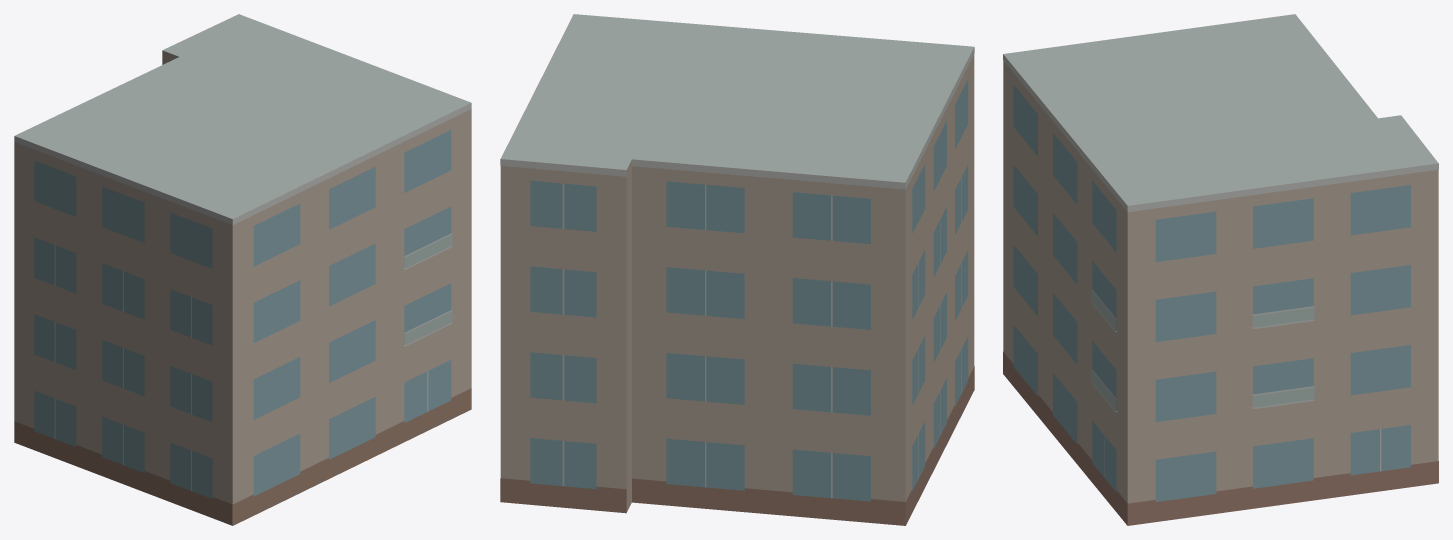
File: survey-upis-32534031.glb
3 views of the same model, side by side, from view 1: azimuth 30°, elevation 25°; view 2: azimuth 150°, elevation 25°; view 3: azimuth 270°, elevation 25° (orthographic). The views are drawn at different scales.
Parts seen in each view (by area): view 1: survey-upis-32534031.tmp; view 2: survey-upis-32534031.tmp; view 3: survey-upis-32534031.tmp.
Part boxes in pixels (box(x1,y1,x2,y2)): survey-upis-32534031.tmp: box(14, 14, 471, 525); survey-upis-32534031.tmp: box(500, 14, 974, 525); survey-upis-32534031.tmp: box(1003, 14, 1438, 525).
Bounding box in the file's own units: 15.91 × 12.36 × 15.26.
